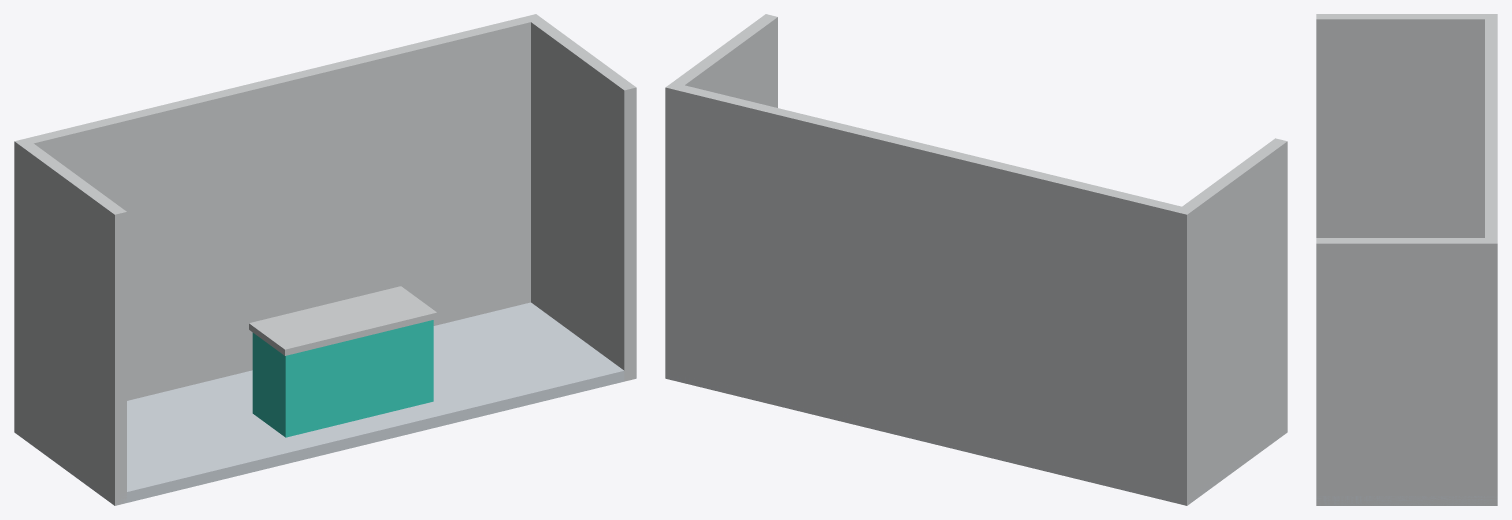
3 views of the same model, side by side, from view 1: azimuth 30°, elevation 25°; view 2: azimuth 150°, elevation 25°; view 3: azimuth 270°, elevation 25° (orthographic). The views are drawn at different scales.
Parts seen in each view (by area): view 1: Exhibition Booth Concept; view 2: Exhibition Booth Concept; view 3: Exhibition Booth Concept.
Part boxes in pixels (x1=…): Exhibition Booth Concept: x1=14, y1=14, x2=636, y2=505; Exhibition Booth Concept: x1=665, y1=14, x2=1287, y2=505; Exhibition Booth Concept: x1=1316, y1=14, x2=1497, y2=505.
Size of the model in its own units: 6 by 3.2 by 2.
